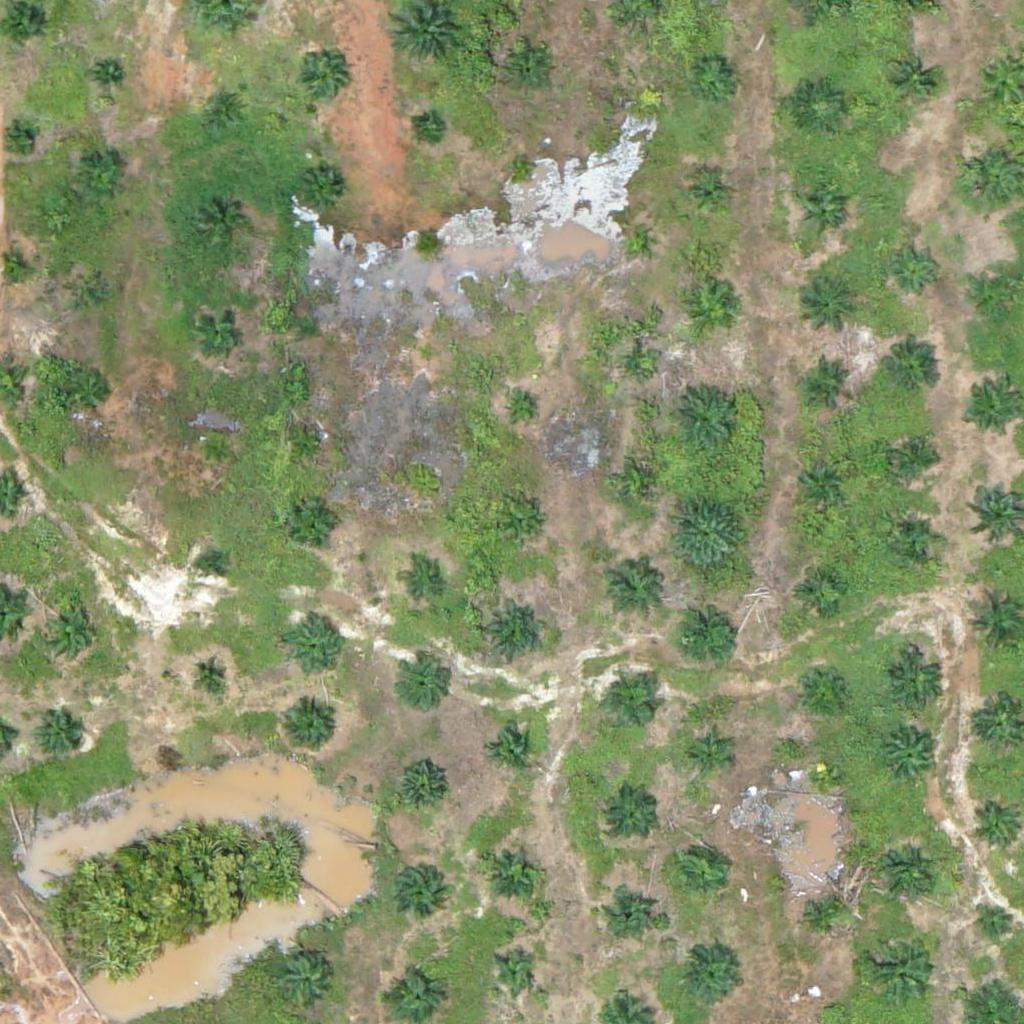Kelapa_Sawit: (666, 381, 741, 457), (670, 599, 745, 675), (865, 925, 940, 1001), (670, 495, 745, 571), (599, 554, 662, 617), (884, 650, 947, 713), (484, 600, 547, 663), (800, 274, 863, 337), (958, 145, 1021, 208), (879, 343, 942, 406), (38, 601, 101, 664), (876, 842, 938, 905), (675, 944, 737, 1007), (278, 697, 340, 760), (482, 839, 544, 902), (282, 615, 344, 678), (881, 729, 943, 791), (68, 366, 118, 417), (398, 659, 448, 710), (281, 958, 331, 1009), (395, 760, 445, 811), (486, 724, 536, 775), (288, 496, 338, 547), (794, 82, 844, 133), (689, 53, 739, 104), (887, 53, 937, 104), (973, 266, 1023, 317), (891, 243, 941, 294), (799, 185, 849, 236), (607, 885, 657, 935), (610, 679, 660, 729), (606, 789, 656, 839), (796, 662, 846, 712), (795, 566, 845, 616), (673, 845, 723, 895), (392, 863, 442, 913), (688, 287, 738, 337), (800, 888, 850, 938), (507, 47, 557, 97), (889, 432, 939, 482), (891, 516, 941, 566), (797, 452, 847, 502), (802, 357, 852, 407), (684, 170, 734, 220), (972, 801, 1022, 851), (36, 709, 86, 759), (296, 53, 346, 103), (299, 167, 349, 217), (196, 306, 246, 356), (196, 199, 246, 249), (203, 85, 253, 135), (76, 155, 126, 205), (688, 735, 726, 773), (401, 565, 439, 603), (975, 903, 1013, 941), (506, 508, 543, 546), (495, 952, 532, 990), (193, 656, 230, 694), (197, 432, 235, 469), (71, 277, 109, 314), (290, 426, 327, 464), (416, 116, 441, 142), (628, 472, 653, 498), (621, 227, 646, 252), (626, 355, 651, 380), (509, 398, 534, 423), (509, 154, 534, 179), (809, 763, 834, 788), (816, 998, 841, 1023), (199, 553, 224, 578), (7, 126, 32, 151), (415, 343, 440, 368), (95, 62, 119, 87)
